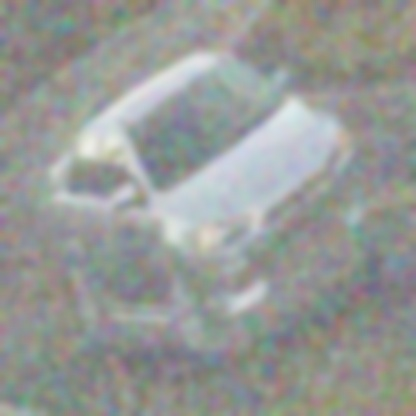Vehicle: (47, 53, 372, 353)
